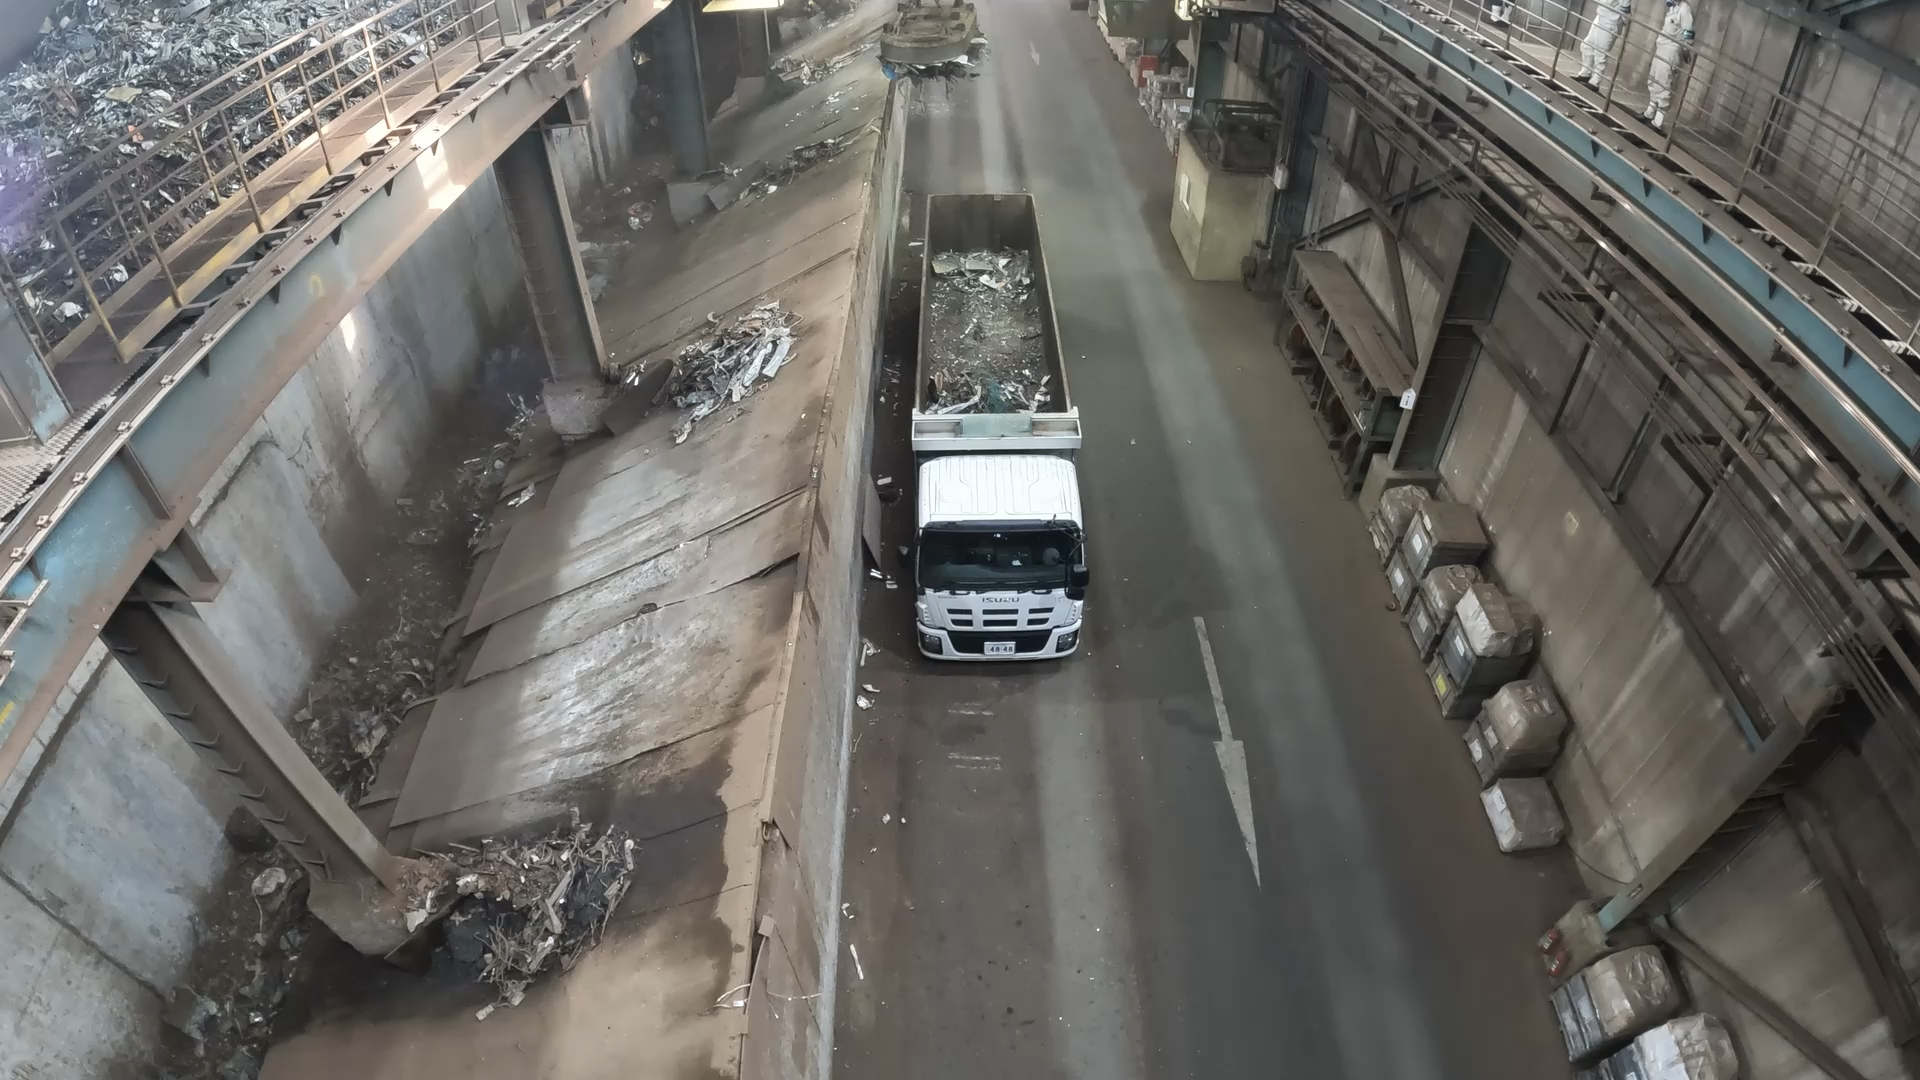truck: (915, 193, 1072, 415)
